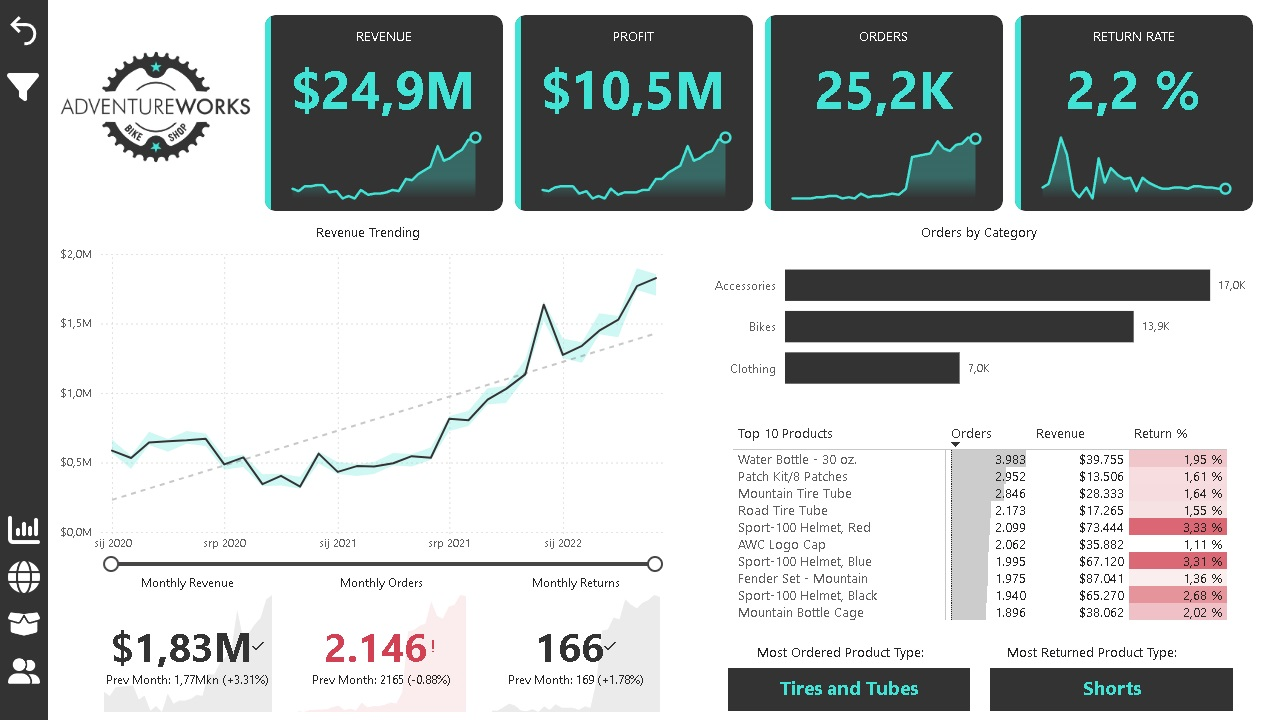

The page's visual inventory and layout, read from the dashboard file:
{"tool":"powerbi","page":{"name":"Exec Dashboard","canvas":[1280,720],"ordinal":0},"visuals":[{"type":"image","title":"AW_Logo","box":[35.5,0,241.8,213.6],"z":0},{"type":"actionButton","box":[3.5,509.9,47.9,39.9],"z":0,"group":"g1"},{"type":"shape","title":"Left Nav Background","box":[0,0,48,720],"z":1000},{"type":"actionButton","box":[3.5,556.9,47.9,39.9],"z":1000,"group":"g1"},{"type":"actionButton","box":[3.5,603.9,47.9,39.9],"z":2000,"group":"g1"},{"type":"lineChart","title":"Revenue Trending","fields":{"Y":["Measure Table.Total Revenue"],"Category":["Calendar Lookup.Start of Month"]},"box":[56,223,624,352],"z":3000},{"type":"actionButton","box":[3.5,650.9,47.9,39.9],"z":3000,"group":"g1"},{"type":"kpi","title":"Monthly Revenue","fields":{"Indicator":["Measure Table.Total Revenue"],"TrendLine":["Calendar Lookup.Start of Month"],"Goal":["Measure Table.Previous Month Revenue"]},"box":[99.4,574.5,178,142],"z":4000},{"type":"kpi","title":"Monthly Orders","fields":{"TrendLine":["Calendar Lookup.Start of Month"],"Indicator":["Measure Table.Total Orders"],"Goal":["Measure Table.Previous Month Orders"]},"box":[293.4,574.5,178,142],"z":5000},{"type":"kpi","title":"Monthly Returns","fields":{"TrendLine":["Calendar Lookup.Start of Month"],"Indicator":["Measure Table.Total Returns"],"Goal":["Measure Table.Previous Month Returns"]},"box":[487.4,574.5,178,142],"z":6000},{"type":"clusteredBarChart","title":"Orders by Category","fields":{"Category":["Product Categories Lookup.CategoryName"],"Y":["Measure Table.Total Orders"]},"box":[706,222.7,547,184],"z":7000},{"type":"pivotTable","fields":{"Values":["Measure Table.Total Orders","Measure Table.Total Revenue","Measure Table.Return Rate"],"Rows":["Product Lookup.ProductName"]},"box":[728,419,524.5,207.3],"z":8000},{"type":"card","fields":{"Values":["Min(Product Subcategories Lookup.SubcategoryName)"]},"box":[728,668,242.1,43.4],"z":9000},{"type":"textbox","box":[751.9,637.9,193.3,30.1],"z":10000},{"type":"card","fields":{"Values":["Min(Product Subcategories Lookup.SubcategoryName)"]},"box":[990.5,668,242.1,43.4],"z":11000},{"type":"textbox","box":[1002,637.9,202.2,30.1],"z":12000},{"type":"actionButton","box":[3.5,9.8,39.9,39.9],"z":13000},{"type":"group","id":"g1","title":"Navigation Buttons","box":[3.5,509.9,47.9,180.9],"z":14000},{"type":"actionButton","box":[2.7,67.4,42.6,39.9],"z":15000},{"type":"cardVisual","fields":{"Data":["Measure Table.Total Revenue","Measure Table.Total Profit","Measure Table.Total Orders","Measure Table.Return Rate"]},"box":[260,10,1000,206],"z":17000}]}

Visuals, with their boxes on the page's 1280x720 design canvas (x1, y1, x2, y2). These are canvas units, not pixel positions in the 1271x720 screenshot, which may show the page scaled, cropped or inside an application window:
"AW_Logo" image: select_region(36, 0, 277, 214)
actionButton: select_region(4, 510, 51, 550)
"Left Nav Background" shape: select_region(0, 0, 48, 720)
actionButton: select_region(4, 557, 51, 597)
actionButton: select_region(4, 604, 51, 644)
"Revenue Trending" lineChart: select_region(56, 223, 680, 575)
actionButton: select_region(4, 651, 51, 691)
"Monthly Revenue" kpi: select_region(99, 574, 277, 716)
"Monthly Orders" kpi: select_region(293, 574, 471, 716)
"Monthly Returns" kpi: select_region(487, 574, 665, 716)
"Orders by Category" clusteredBarChart: select_region(706, 223, 1253, 407)
pivotTable - Measure Table.Total Orders x Measure Table.Total Revenue: select_region(728, 419, 1252, 626)
card - Min(Product Subcategories Lookup.SubcategoryName): select_region(728, 668, 970, 711)
textbox: select_region(752, 638, 945, 668)
card - Min(Product Subcategories Lookup.SubcategoryName): select_region(990, 668, 1233, 711)
textbox: select_region(1002, 638, 1204, 668)
actionButton: select_region(4, 10, 43, 50)
"Navigation Buttons" group: select_region(4, 510, 51, 691)
actionButton: select_region(3, 67, 45, 107)
cardVisual - Measure Table.Total Revenue x Measure Table.Total Profit: select_region(260, 10, 1260, 216)
